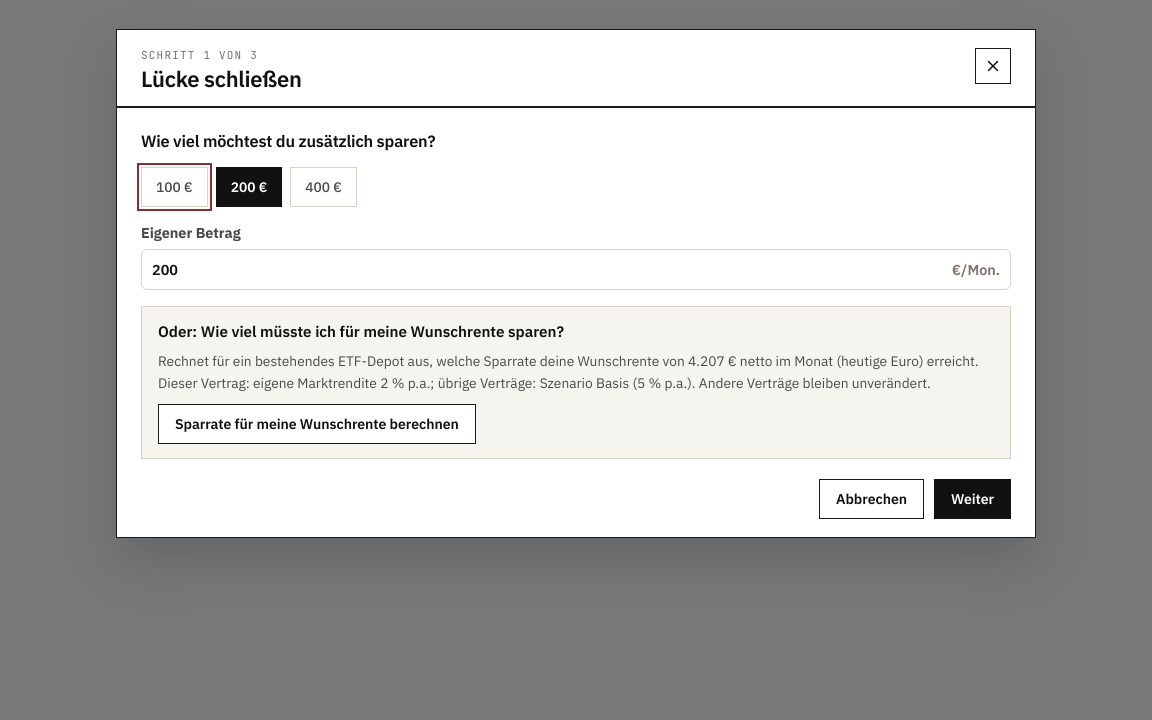
Test case: LueckeSchliessenModal — contract return caption (#372) › names the contract rate and the scenario for the other contracts on the saved confirmation
What coordinates should you click on to do the following:
click the button "Weiter"
I would click on:
 (972, 499)
Its box is x1=934 y1=479 x2=1011 y2=519.
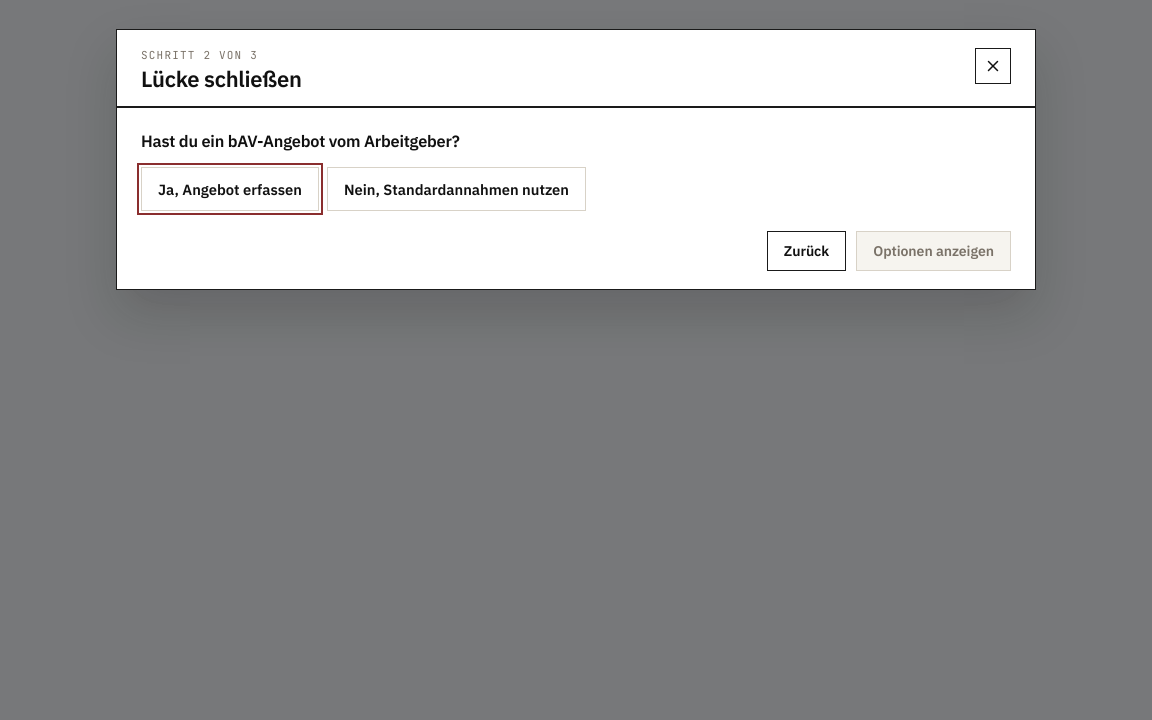
What coordinates should you click on to do the following:
click the button "Nein, Standardannahmen nutzen"
I would click on:
 (456, 189)
Its box is x1=327 y1=167 x2=586 y2=211.
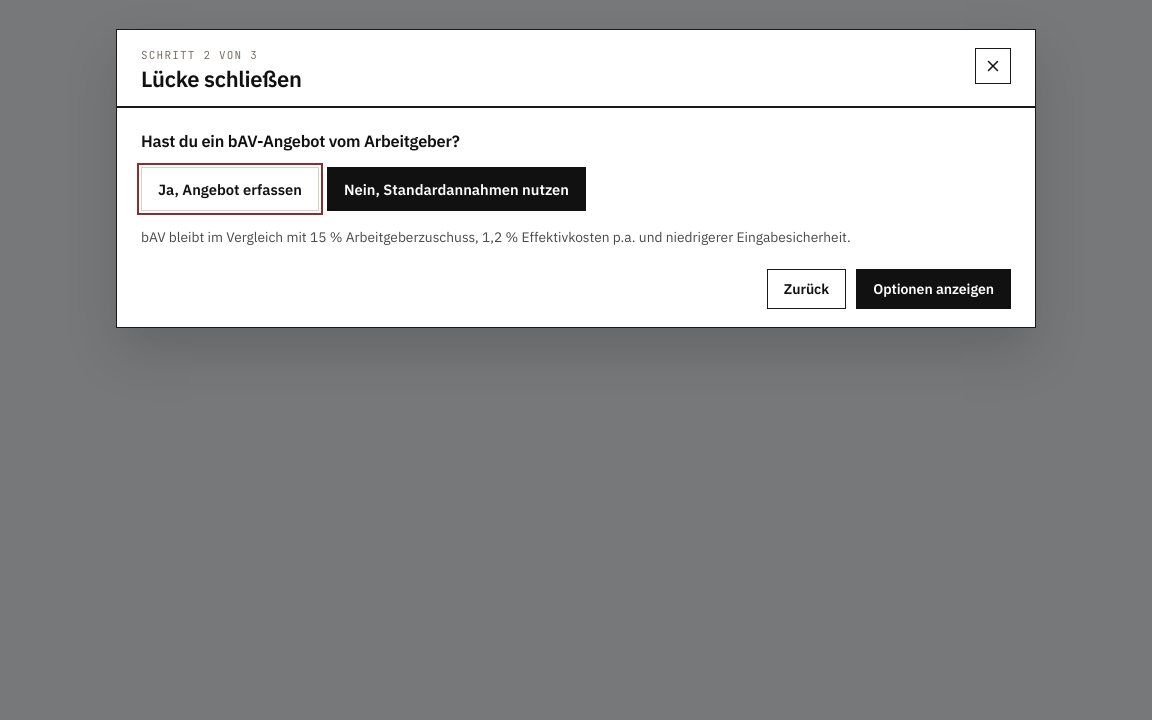
What coordinates should you click on to do the following:
click the button "Optionen anzeigen"
I would click on:
 (934, 288)
Its box is x1=856 y1=268 x2=1011 y2=308.
(page scrolled)
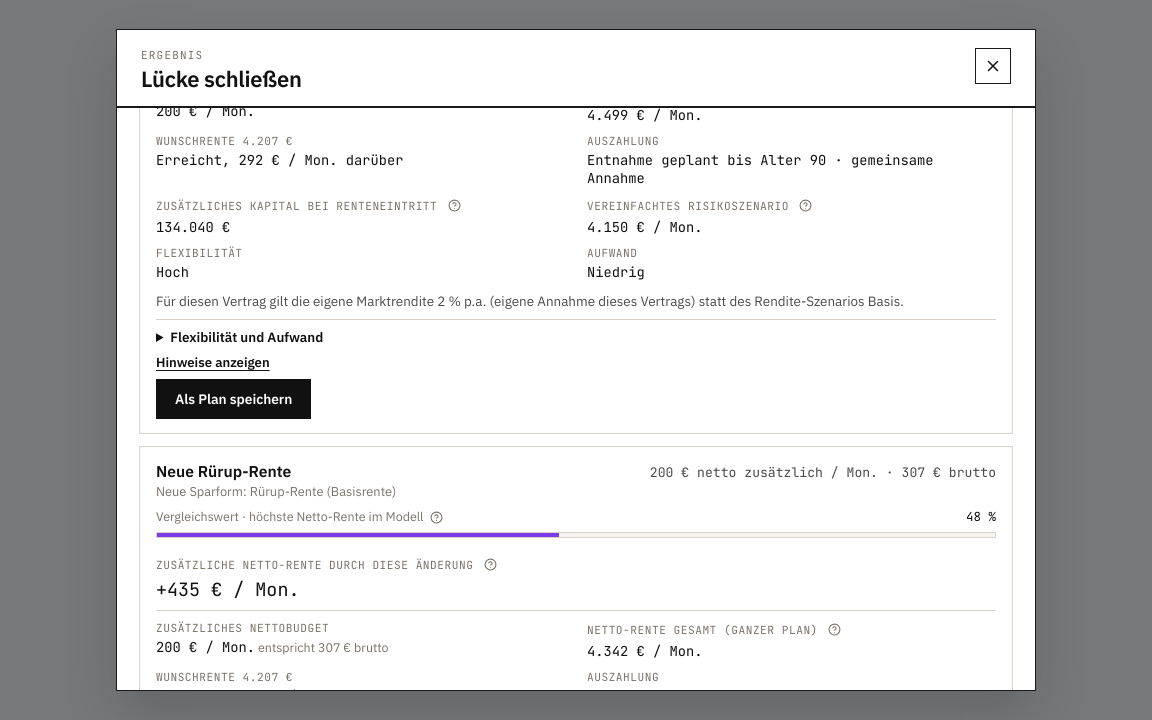
What coordinates should you click on to do the following:
click the button with class "recommender-candidate-save"
I would click on:
 (234, 399)
Its box is x1=156 y1=379 x2=311 y2=419.
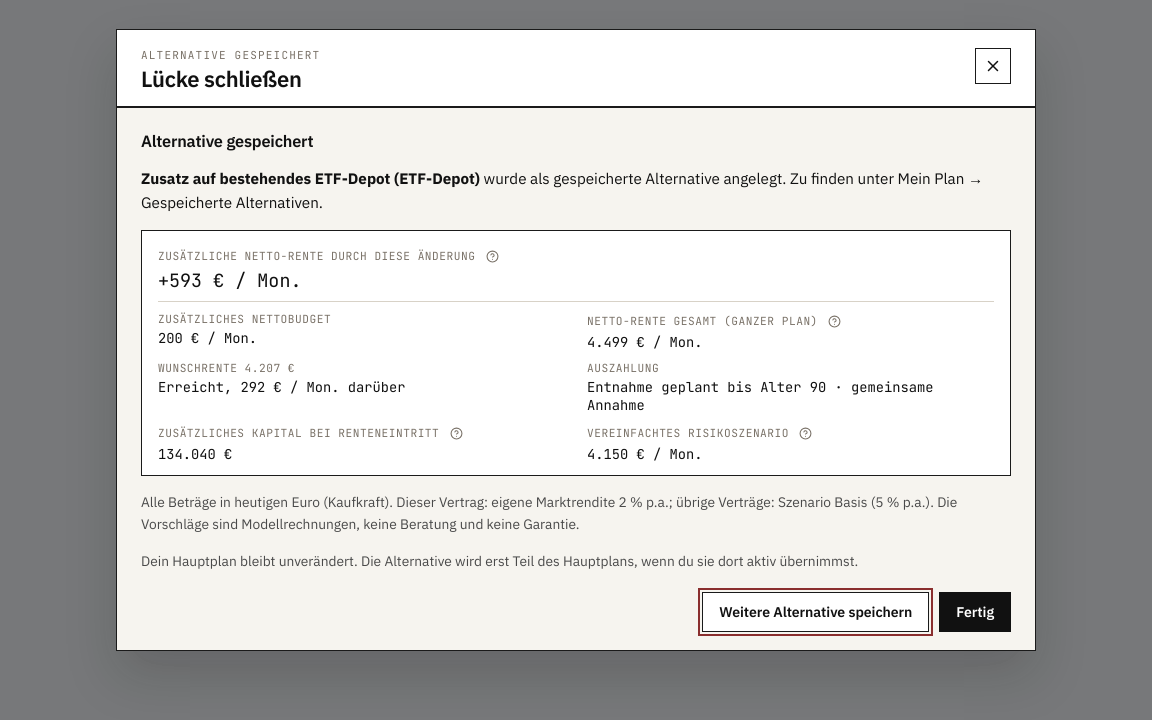
Check: the text with class "luecke-modal__body--saved" no longer shows "Rendite-Szenario"
